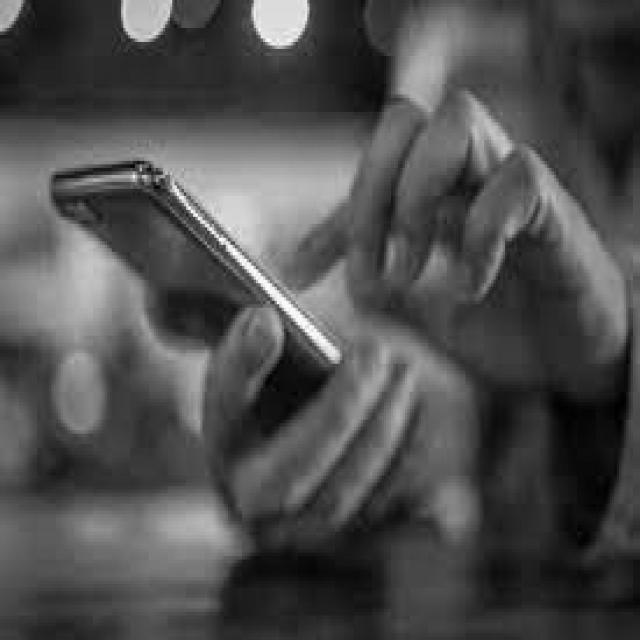No gun_phone: (53, 160, 346, 416)
